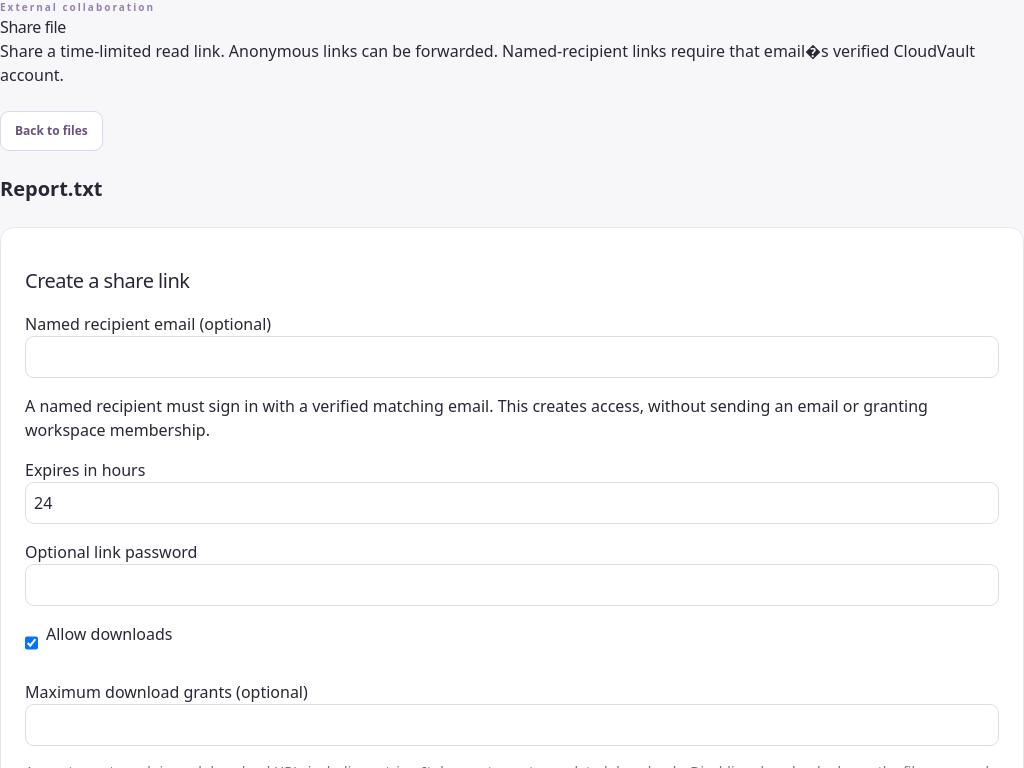
Test: creates protected restricted links, shows a one-time URL and revokes
The width and height of the screenshot is (1024, 768).
Type "separate-password" into the password field labelled "Optional link password" at (512, 585), box [25,564,999,606]
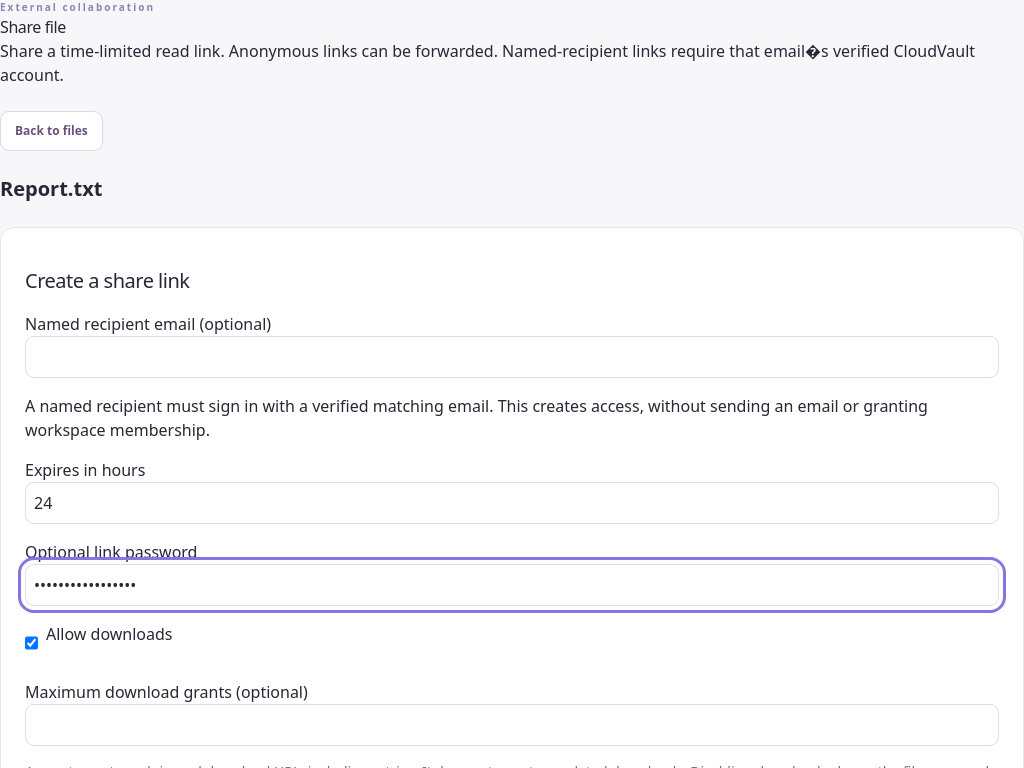
Type "1" into the number field labelled "Maximum download grants (optional)" at (512, 725), box [25,704,999,746]
(page scrolled)
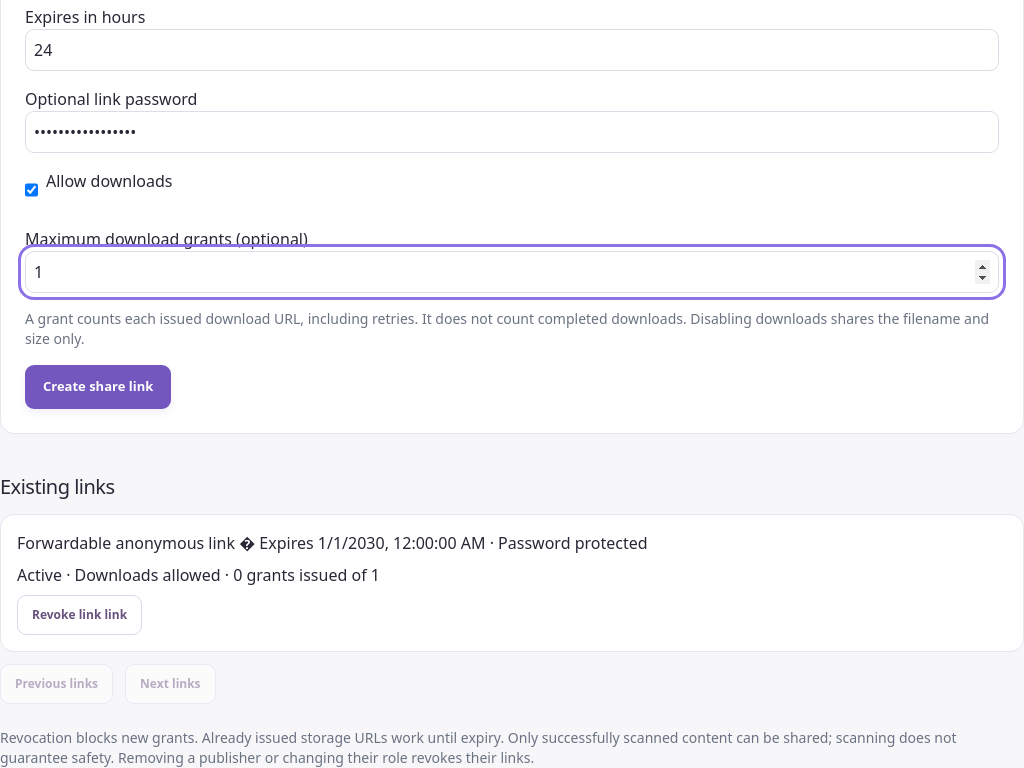
Click the button "Create share link" at (98, 387), box [25,365,171,408]
(page scrolled)
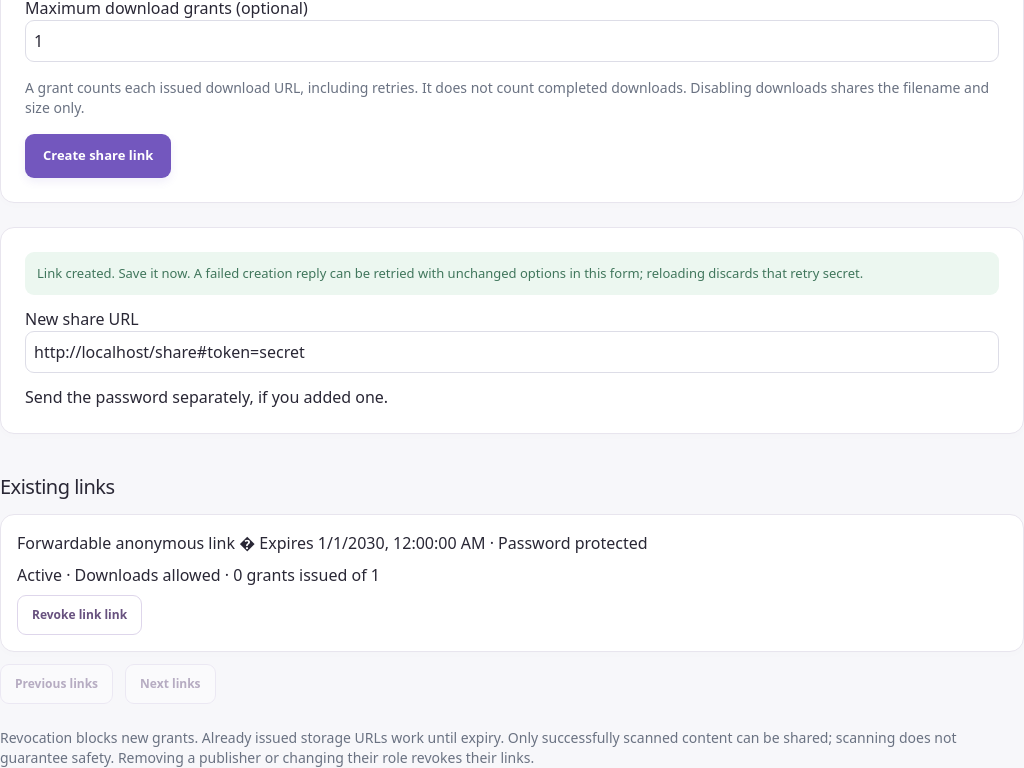
Now the field labelled "New share URL" holds "http://localhost/share#token=secret", box [25,331,999,373]
Click the button "Revoke link link" at (80, 615), box [17,595,142,635]
(page scrolled)
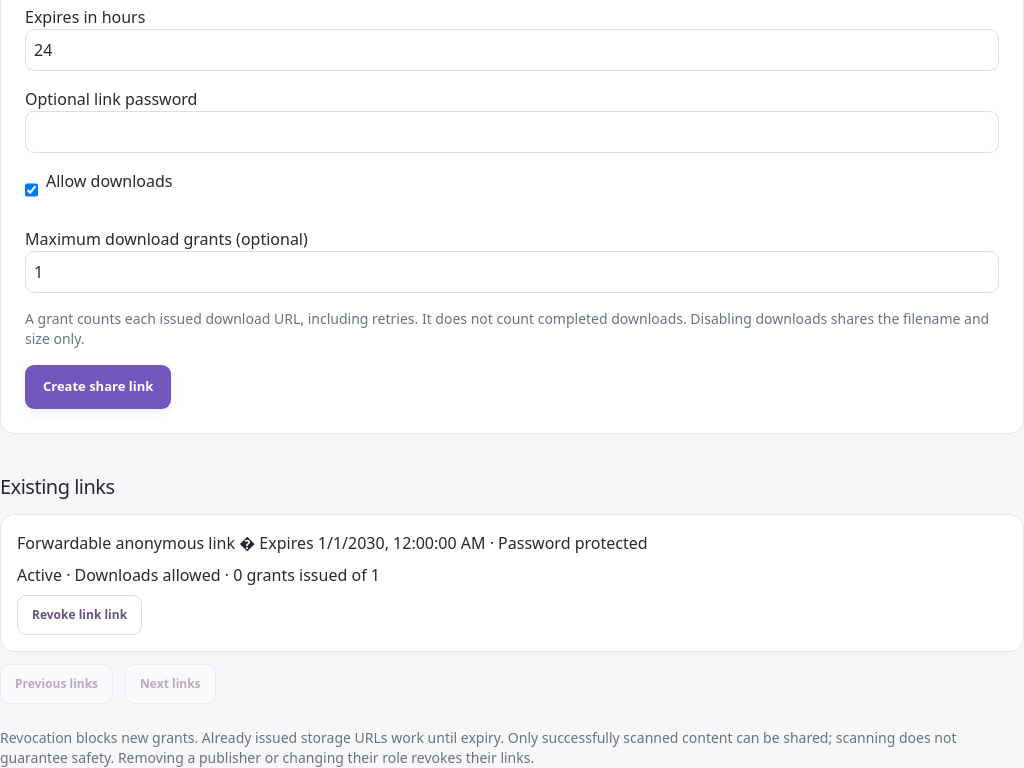
Now the label labelled "New share URL" is gone
